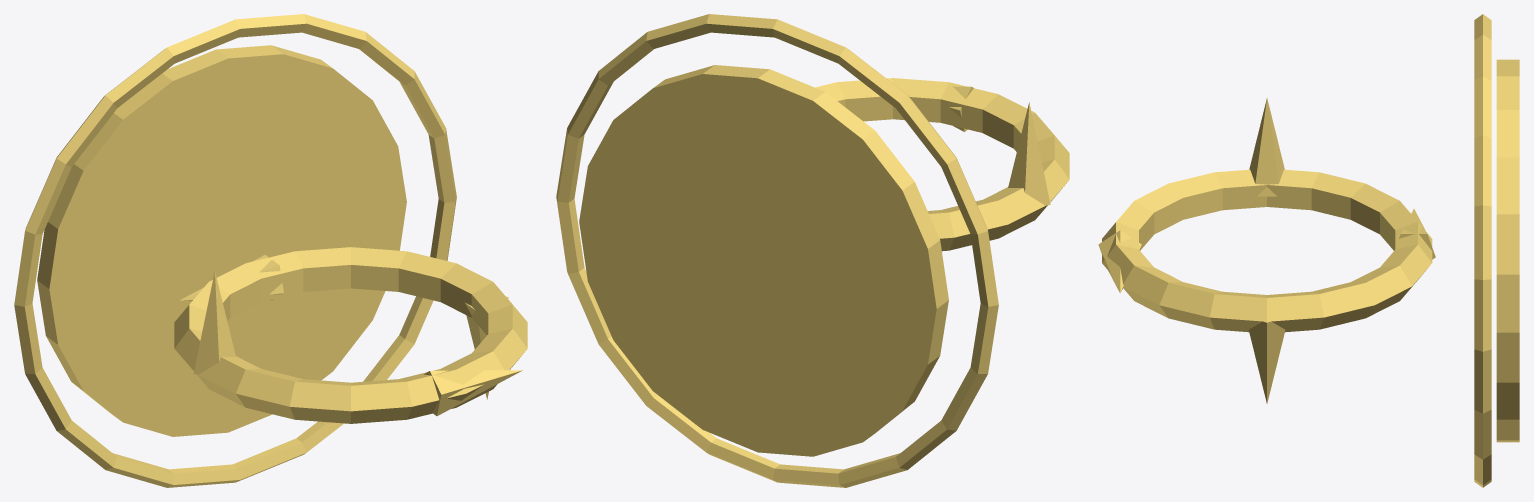
File: 06_chakram_projectile.glb
3 renders of one model, left to right at view 1: azimuth 30°, elevation 25°; view 2: azimuth 150°, elevation 25°; view 3: azimuth 270°, elevation 25°, orthographic. The views are drawn at different scales.
Visible parts, largest first — view 1: base_disc, chakram_ring, base_ring, point_2, point_1; view 2: base_disc, base_ring, chakram_ring, point_2; view 3: chakram_ring, base_disc, base_ring, point_2, point_0, point_1.
Part boxes in pixels (x1,y1,x2,y2): base_disc: (37, 45, 406, 436); chakram_ring: (174, 247, 527, 423); base_ring: (14, 14, 456, 487); point_2: (193, 271, 235, 374); point_1: (423, 370, 522, 415); base_disc: (579, 65, 948, 456); base_ring: (556, 14, 998, 487); chakram_ring: (815, 78, 1069, 251); point_2: (1008, 102, 1050, 205); chakram_ring: (1102, 169, 1432, 332); base_disc: (1496, 59, 1519, 442); base_ring: (1474, 14, 1491, 487); point_2: (1249, 98, 1284, 196); point_0: (1248, 321, 1285, 403); point_1: (1098, 230, 1141, 293).
Size of the model in its own units: 1.04 by 1.04 by 0.9176.
